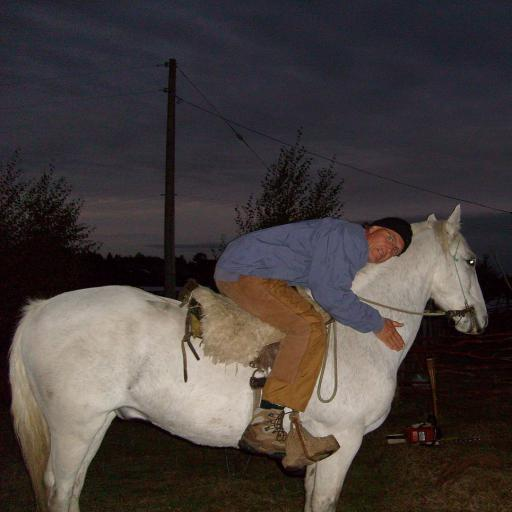Horse: (3, 205, 491, 512)
